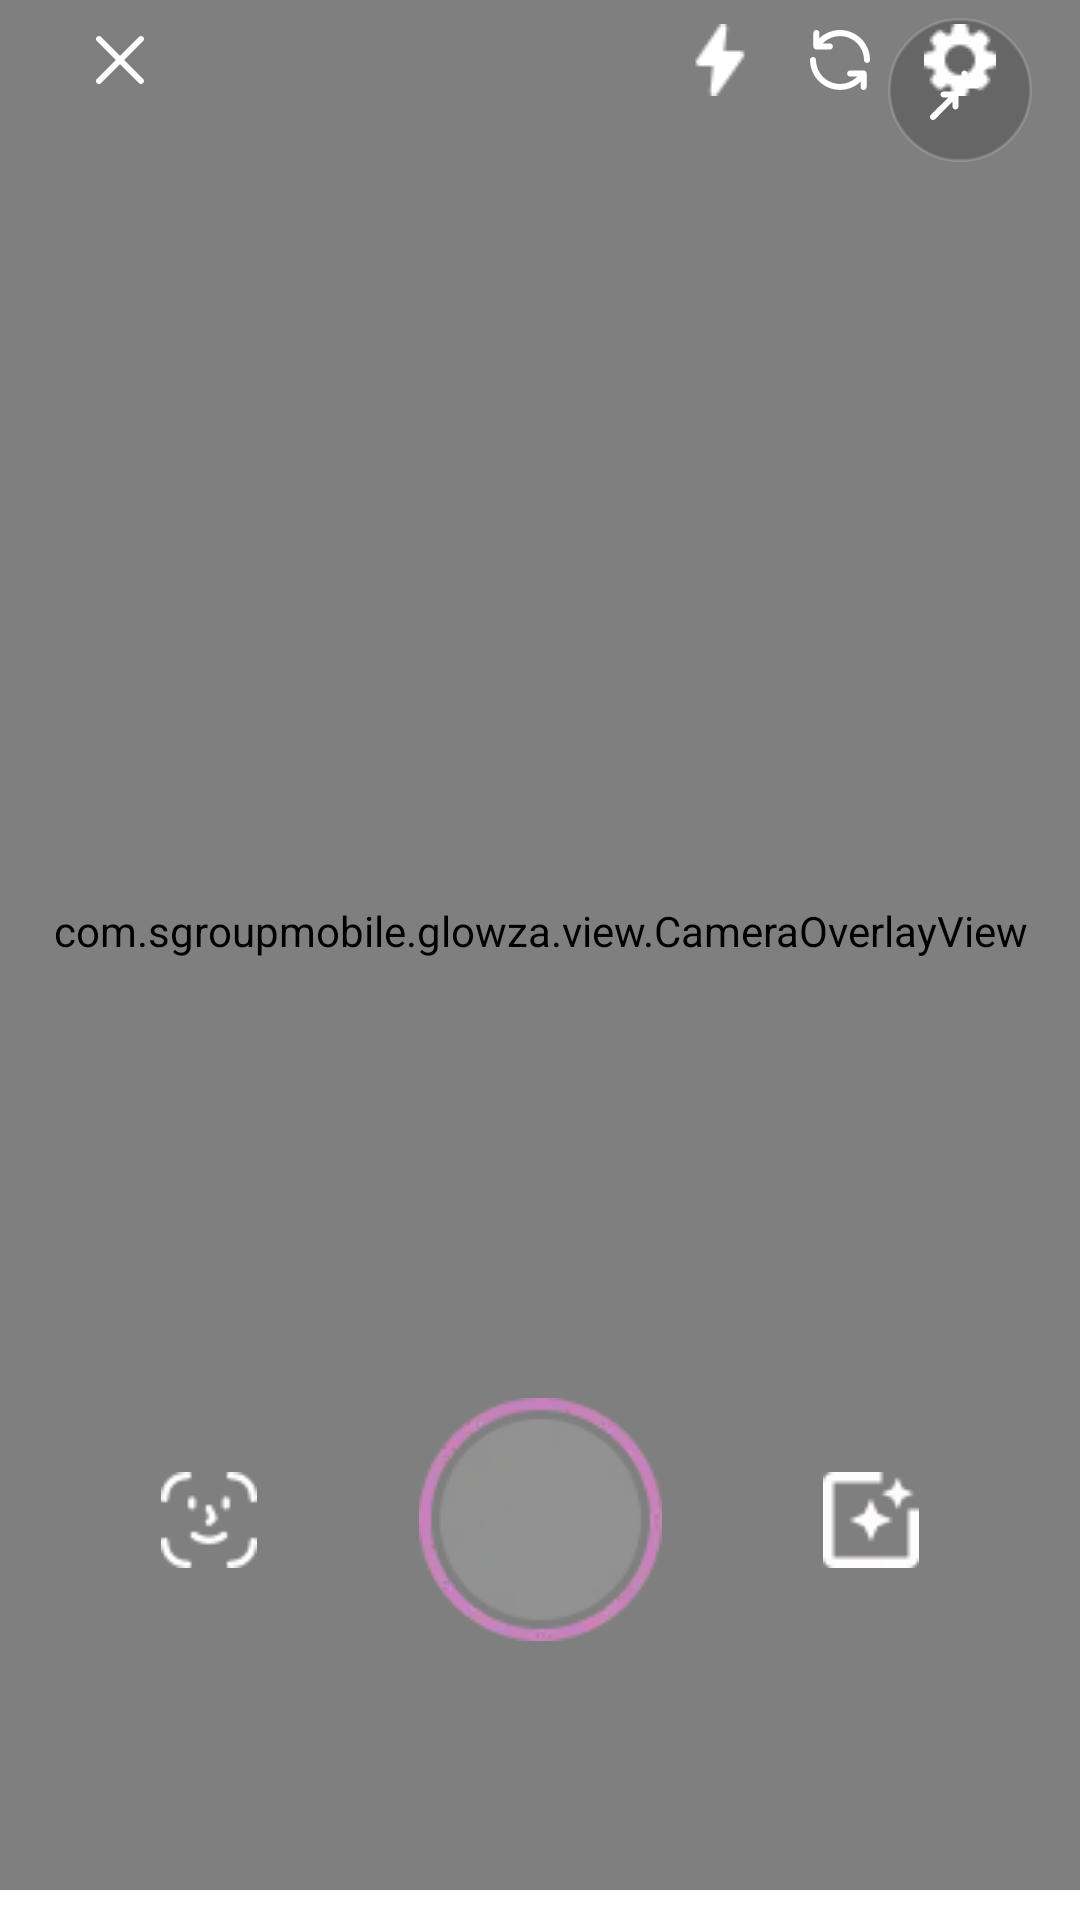

Point at icon controls on the screen. Image size 1080w x 1920h, points as [x,y].
exit: [120,60]
face filter: [209,1520]
filter: [871,1520]
flash: [720,60]
snap: [540,1519]
switch direction: [840,60]
